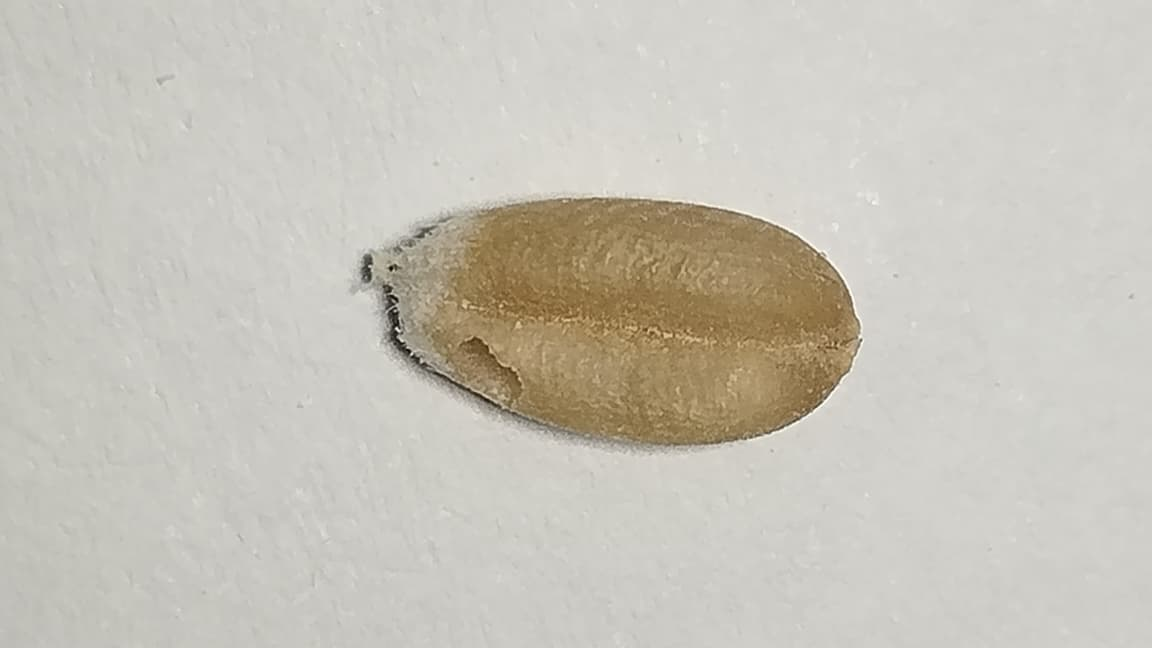damage: (376, 197, 858, 443)
insectdamage: (439, 313, 561, 437)
